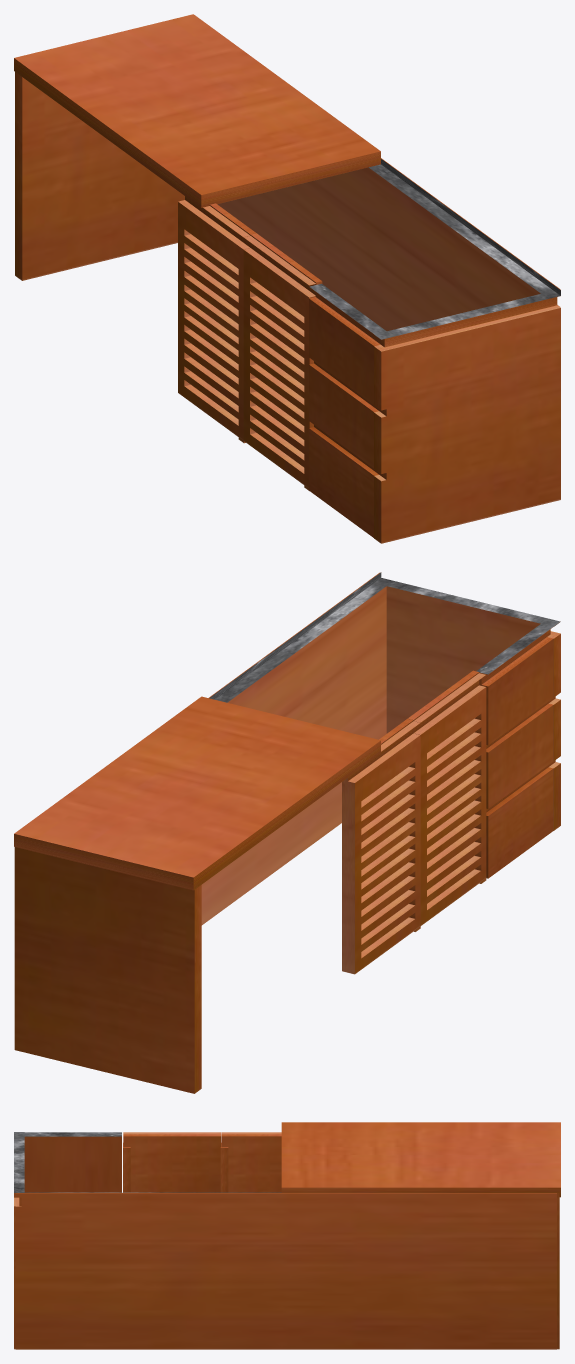
Rendered from EscritorioMadera.obj.
The picture shows the model from 3 angles, top to bottom: view 1: azimuth 30°, elevation 25°; view 2: azimuth 150°, elevation 25°; view 3: azimuth 270°, elevation 25°; orthographic projection. The views are drawn at different scales.
Parts seen in each view (by area): view 1: EscritorioMadera:pCube131; view 2: EscritorioMadera:pCube131; view 3: EscritorioMadera:pCube131.
Part boxes in pixels (x1,y1,x2,y2): EscritorioMadera:pCube131: (14,14,560,543); EscritorioMadera:pCube131: (14,572,560,1093); EscritorioMadera:pCube131: (14,1122,560,1349).
Size of the model in its own units: 4.72 by 5.46 by 16.65.
